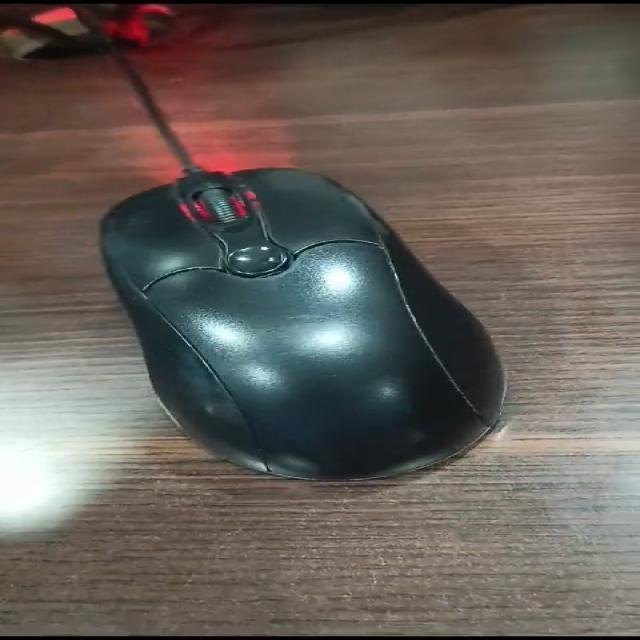mouse: (72, 129, 568, 532)
